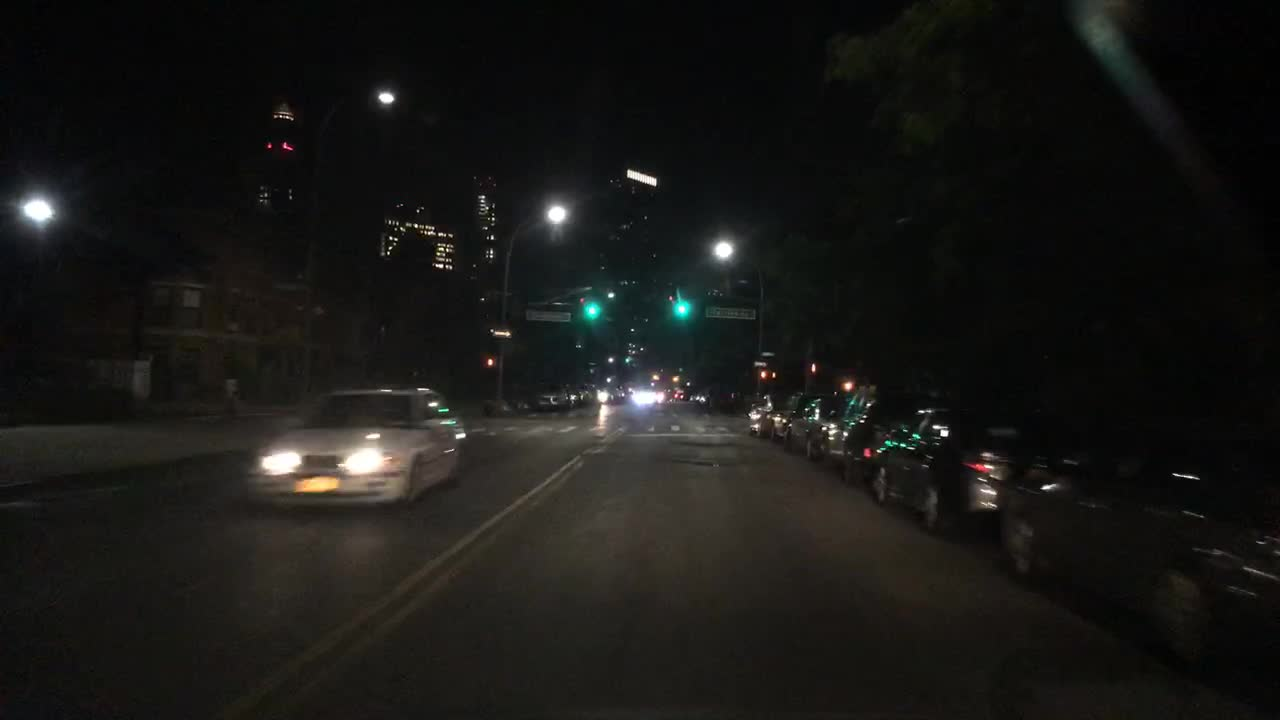car: (998, 447, 1277, 665), (248, 384, 466, 509), (873, 406, 1038, 532), (818, 385, 931, 486), (783, 390, 851, 458), (746, 391, 792, 438), (696, 384, 743, 415), (533, 382, 570, 411), (570, 382, 595, 402), (600, 384, 624, 402), (631, 390, 655, 404), (566, 387, 579, 408), (587, 383, 600, 400), (624, 385, 634, 398), (688, 393, 700, 403), (673, 391, 684, 401), (656, 391, 665, 400)
traffic light: (584, 303, 600, 318), (674, 300, 686, 317), (484, 356, 493, 366), (808, 362, 817, 372), (758, 369, 767, 378), (769, 370, 778, 377)
traffic sign: (705, 305, 754, 319), (525, 310, 573, 321), (490, 328, 511, 338), (753, 360, 765, 366), (761, 351, 773, 355)
